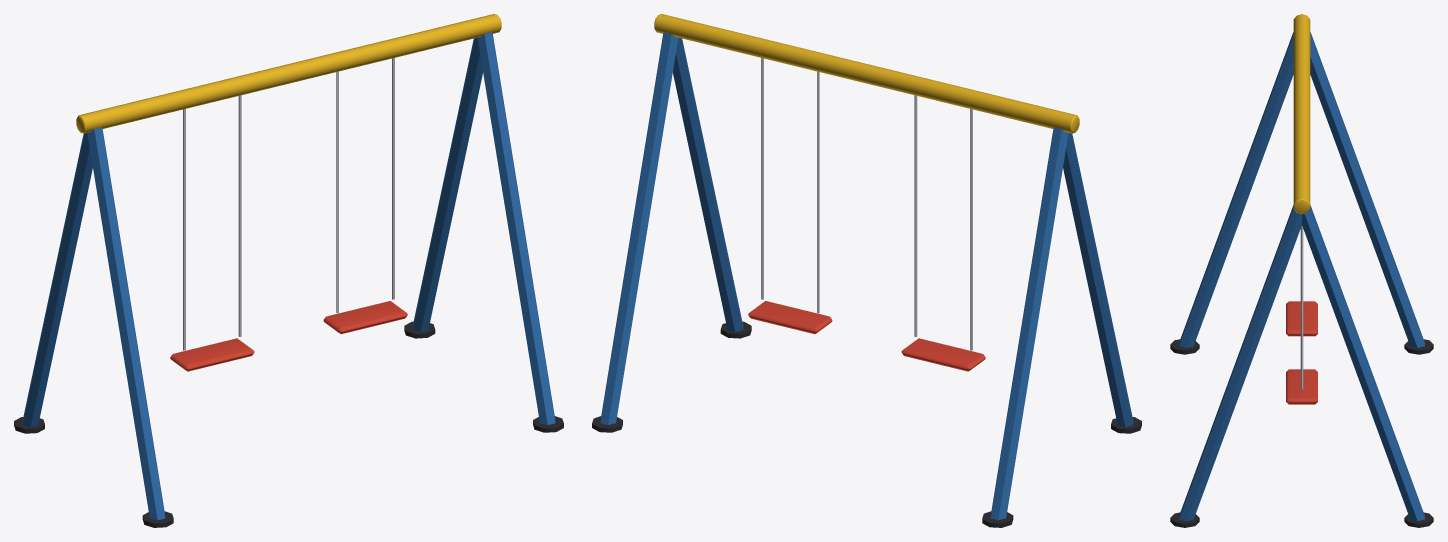
Rendered from playground_swings.glb.
3 views of the same model, side by side, from view 1: azimuth 30°, elevation 25°; view 2: azimuth 150°, elevation 25°; view 3: azimuth 270°, elevation 25° (orthographic). The views are drawn at different scales.
Parts seen in each view (by area): view 1: playground_swings; view 2: playground_swings; view 3: playground_swings.
Boxes of the visible parts, left/top/right/bottom form: playground_swings: left=14, top=14, right=563, bottom=527; playground_swings: left=592, top=14, right=1141, bottom=527; playground_swings: left=1170, top=14, right=1433, bottom=527.
Bounding box in the file's own units: 3 × 2.5 × 1.8.
